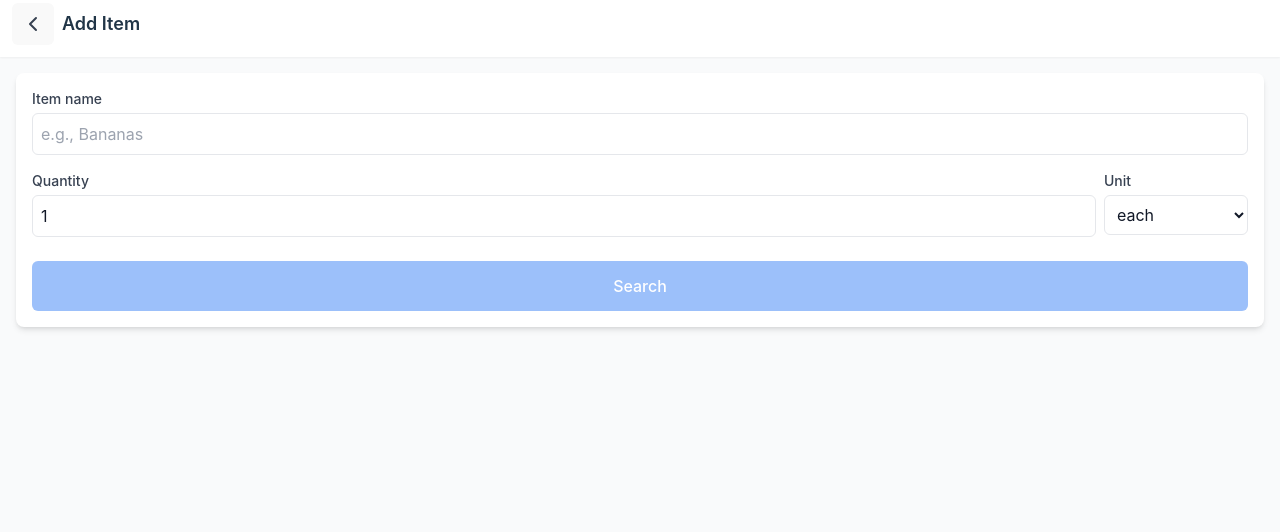
it: AddItemScreen search › offline: searches the local cache and never calls the server
Type "bananas" into the field at (640, 134), box [32, 113, 1248, 155]
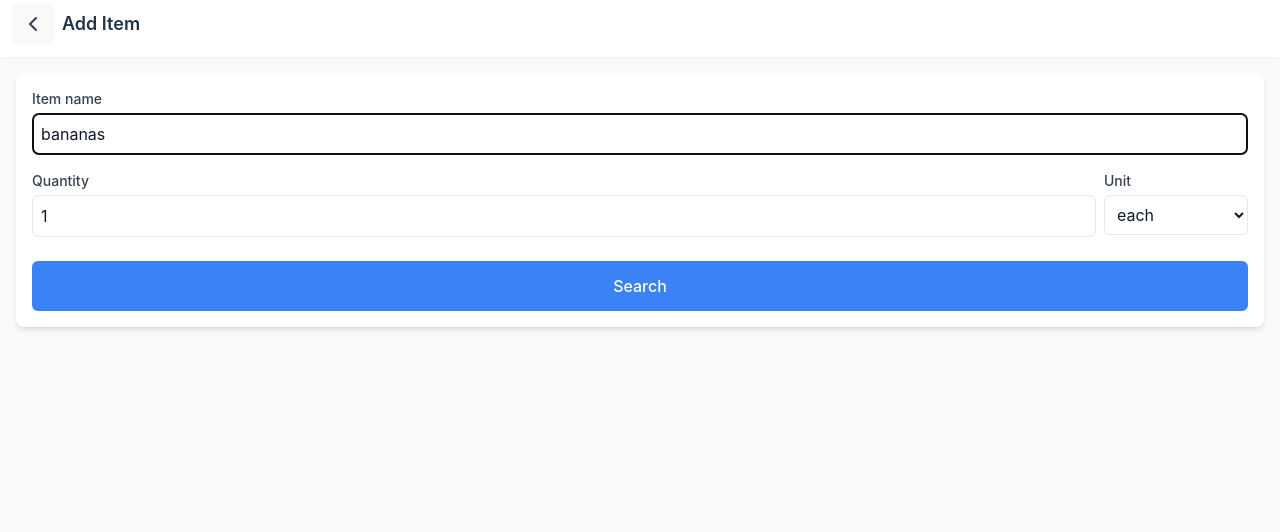
Click the button "Search" at (640, 286), box [32, 261, 1248, 311]
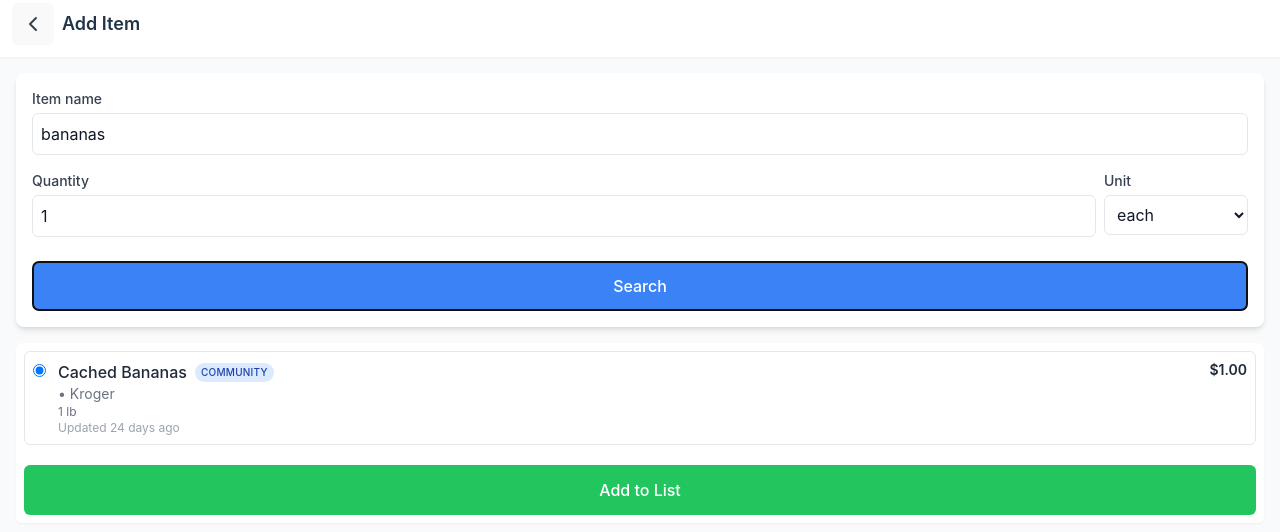
Check: the text "Cached Bananas" is shown, box [58, 362, 187, 382]
